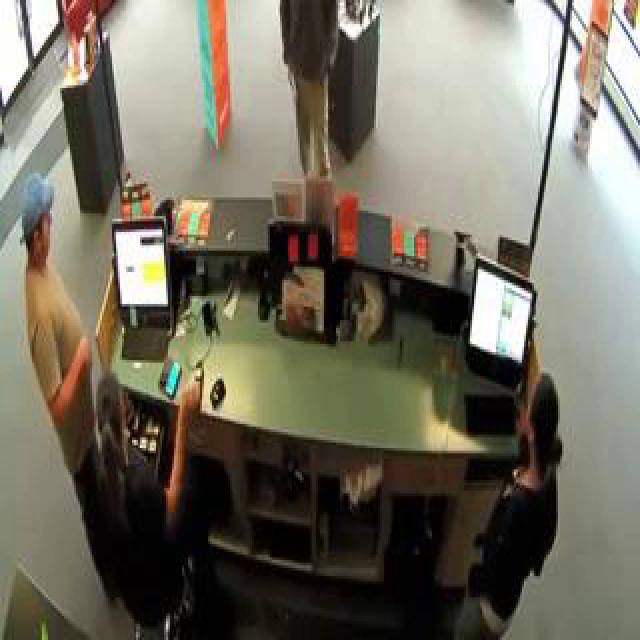robbery: (11, 88, 229, 625)
